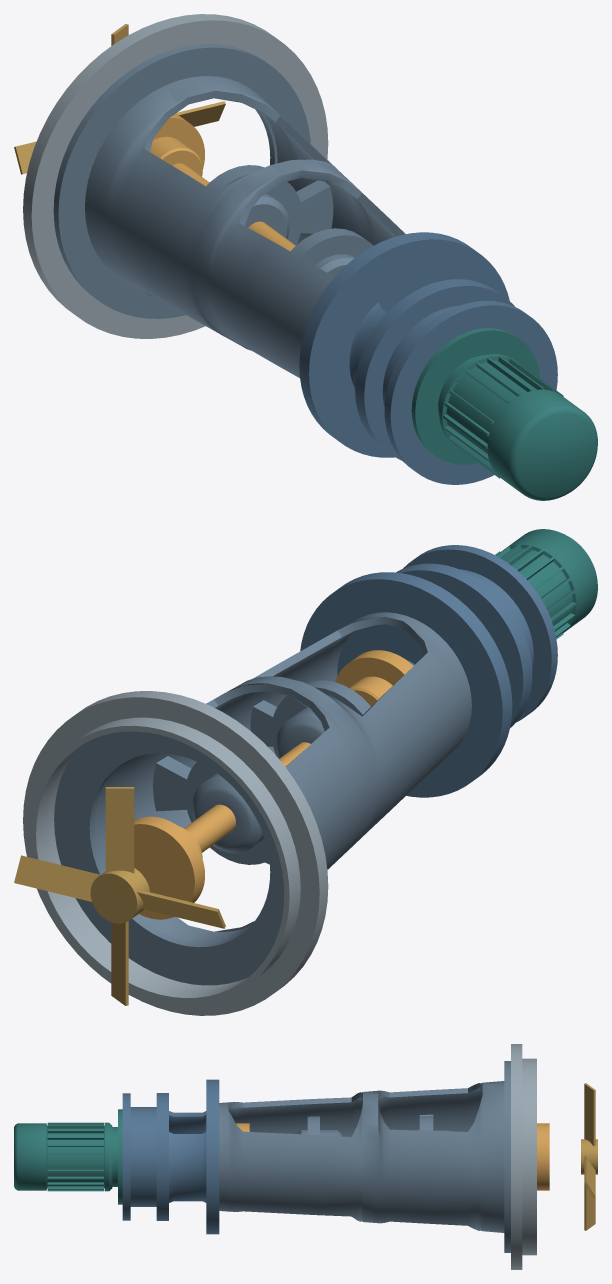
File: 槽罐搅拌器_v0.3.obj
3 renders of one model, top to bottom at view 1: azimuth 30°, elevation 25°; view 2: azimuth 150°, elevation 25°; view 3: azimuth 270°, elevation 25°, orthographic. The views are drawn at different scales.
Visible parts, largest first — view 1: 06_Tapered_window_frame_with_bored_seats, 07_Tank_interface_rim, 01_Motor, 06_Frame_foot, 02_Base_flange_top, 02_Upper_mount_flange, 02_Middle_flange_top, 03_Intermediate_shaft, 02_Base_flange_bottom, 02_Middle_flange_bottom, 02_Lower_housing_2, 02_Upper_housing (+1 smaller); view 2: 06_Tapered_window_frame_with_bored_seats, 07_Tank_interface_rim, 06_Frame_foot, 02_Base_flange_bottom, 07_Tank_interface_short_wall, 03_Intermediate_shaft, 02_Upper_mount_flange, 01_Motor, 02_Middle_flange_bottom, 05_Pitched_blade_2, 05_Impeller_hub, 05_Pitched_blade_1 (+5 smaller); view 3: 06_Tapered_window_frame_with_bored_seats, 01_Motor, 07_Tank_interface_short_wall, 07_Tank_interface_rim, 02_Upper_housing, 02_Lower_housing_1, 06_Frame_foot, 02_Base_flange_bottom, 02_Upper_mount_flange, 02_Base_flange_top, 03_Intermediate_shaft, 02_Middle_flange_top (+6 smaller).
Part boxes in pixels (left/top/right/bottom): 06_Tapered_window_frame_with_bored_seats: left=85, top=76, right=405, bottom=377; 07_Tank_interface_rim: left=23, top=14, right=328, bottom=338; 01_Motor: left=411, top=328, right=597, bottom=500; 06_Frame_foot: left=53, top=44, right=310, bottom=318; 02_Base_flange_top: left=304, top=236, right=509, bottom=457; 02_Upper_mount_flange: left=384, top=301, right=557, bottom=484; 02_Middle_flange_top: left=359, top=282, right=514, bottom=460; 03_Intermediate_shaft: left=150, top=114, right=295, bottom=251; 02_Base_flange_bottom: left=299, top=232, right=473, bottom=437; 02_Middle_flange_bottom: left=355, top=279, right=496, bottom=448; 02_Lower_housing_2: left=349, top=302, right=387, bottom=388; 02_Upper_housing: left=382, top=306, right=457, bottom=406; 06_Tapered_window_frame_with_bored_seats: left=94, top=612, right=471, bottom=943; 07_Tank_interface_rim: left=23, top=691, right=328, bottom=1015; 06_Frame_foot: left=54, top=731, right=284, bottom=985; 02_Base_flange_bottom: left=300, top=575, right=507, bottom=797; 07_Tank_interface_short_wall: left=30, top=717, right=300, bottom=1003; 03_Intermediate_shaft: left=134, top=650, right=413, bottom=919; 02_Upper_mount_flange: left=403, top=545, right=557, bottom=722; 01_Motor: left=505, top=529, right=597, bottom=632; 02_Middle_flange_bottom: left=397, top=567, right=527, bottom=726; 05_Pitched_blade_2: left=105, top=787, right=134, bottom=873; 05_Impeller_hub: left=90, top=868, right=149, bottom=923; 05_Pitched_blade_1: left=14, top=855, right=100, bottom=901; 06_Tapered_window_frame_with_bored_seats: left=219, top=1081, right=504, bottom=1232; 01_Motor: left=14, top=1109, right=122, bottom=1204; 07_Tank_interface_short_wall: left=522, top=1058, right=536, bottom=1255; 07_Tank_interface_rim: left=511, top=1044, right=522, bottom=1269; 02_Upper_housing: left=130, top=1107, right=156, bottom=1206; 02_Lower_housing_1: left=169, top=1132, right=206, bottom=1202; 06_Frame_foot: left=504, top=1061, right=510, bottom=1252; 02_Base_flange_bottom: left=212, top=1079, right=219, bottom=1234; 02_Upper_mount_flange: left=122, top=1093, right=130, bottom=1220; 02_Base_flange_top: left=206, top=1079, right=212, bottom=1234; 03_Intermediate_shaft: left=236, top=1123, right=549, bottom=1190; 02_Middle_flange_top: left=156, top=1093, right=162, bottom=1220.
Size of the model in its own units: 0.9096 by 0.9096 by 2.35.
